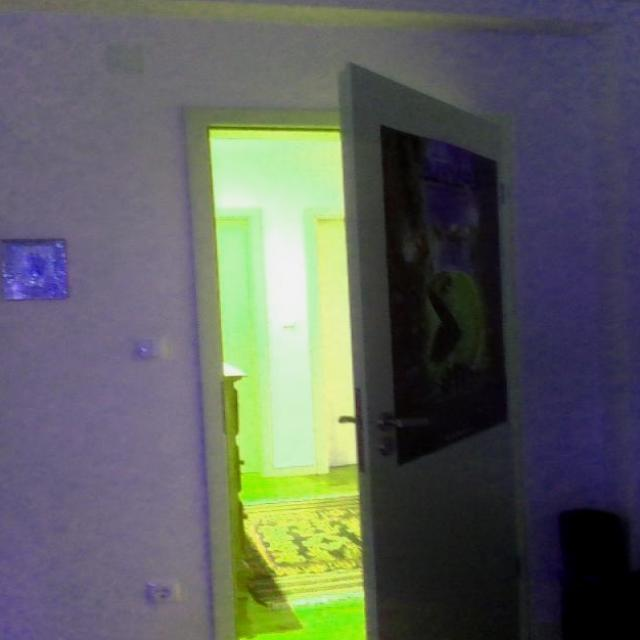door: (339, 61, 527, 638)
